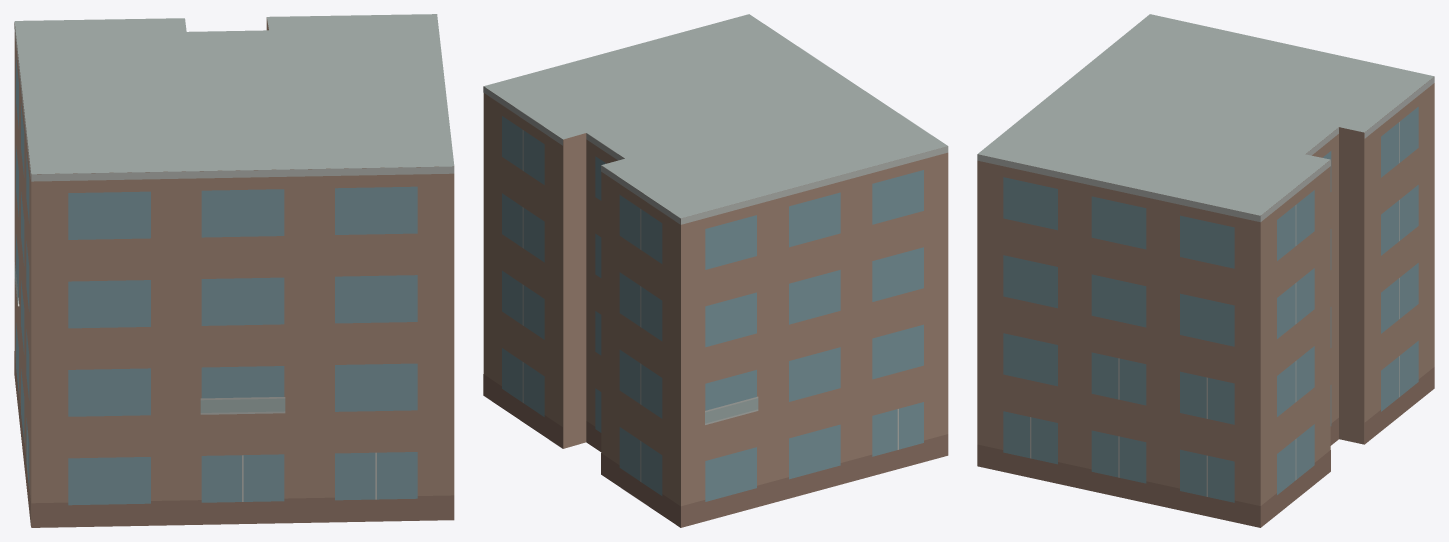
Rendered from survey-upis-33016331.glb.
The picture shows the model from 3 angles, left to right: view 1: azimuth 30°, elevation 25°; view 2: azimuth 150°, elevation 25°; view 3: azimuth 270°, elevation 25°; orthographic projection. The views are drawn at different scales.
Visible parts, largest first — view 1: survey-upis-33016331.tmp; view 2: survey-upis-33016331.tmp; view 3: survey-upis-33016331.tmp.
Part boxes in pixels (box(x1,y1,x2,y2)): survey-upis-33016331.tmp: box(14, 14, 454, 527); survey-upis-33016331.tmp: box(483, 14, 948, 527); survey-upis-33016331.tmp: box(977, 14, 1434, 527).
Size of the model in its own units: 16.37 by 11.8 by 15.68.
